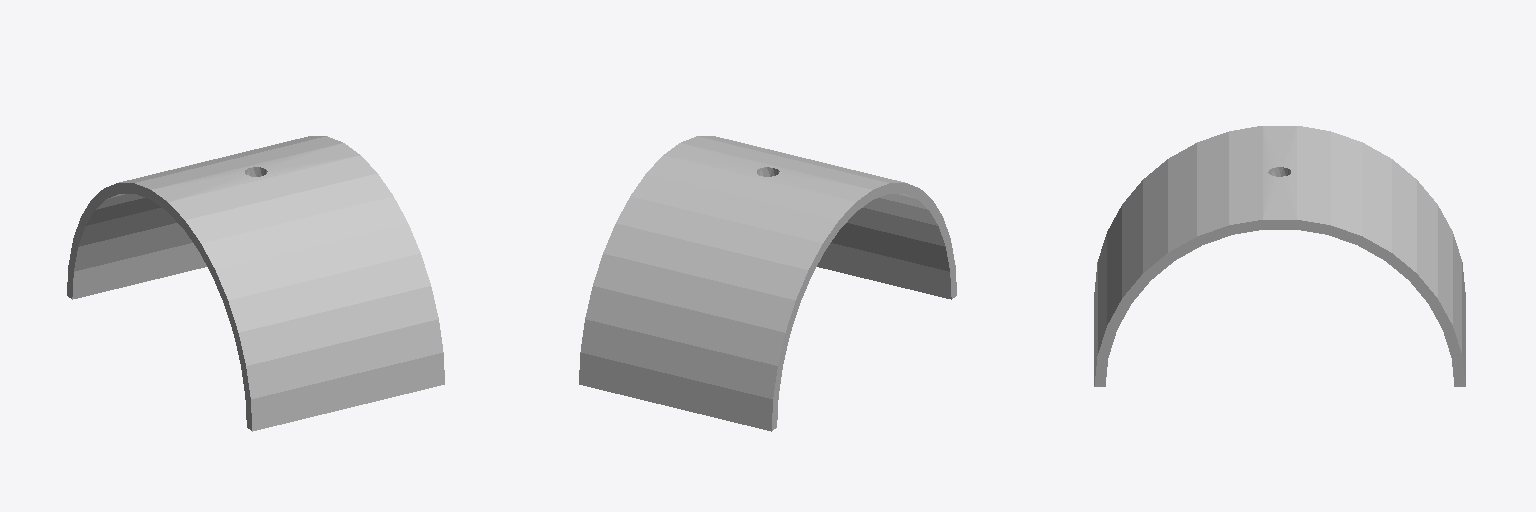
File: Вкладыш головки шатуна сверху.obj
3 renders of one model, left to right at view 1: azimuth 30°, elevation 25°; view 2: azimuth 150°, elevation 25°; view 3: azimuth 270°, elevation 25°, orthographic.
Visible parts, largest first — view 1: Вкладыш_головки_шатуна; view 2: Вкладыш_головки_шатуна; view 3: Вкладыш_головки_шатуна.
Part boxes in pixels (left/top/right/bottom): Вкладыш_головки_шатуна: left=67, top=136, right=444, bottom=431; Вкладыш_головки_шатуна: left=579, top=136, right=956, bottom=431; Вкладыш_головки_шатуна: left=1094, top=126, right=1465, bottom=386.
Size of the model in its own units: 28.57 by 23.82 by 47.65.